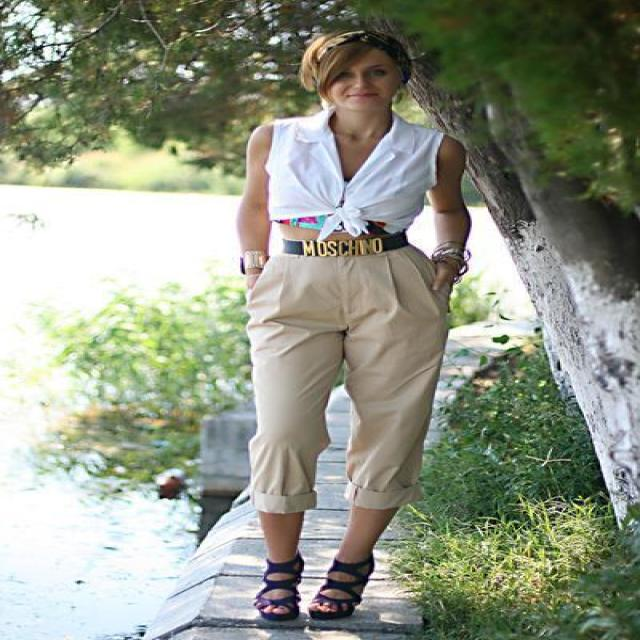pants: (232, 243, 467, 534)
shirt: (266, 98, 440, 255)
shoe: (261, 546, 382, 622)
